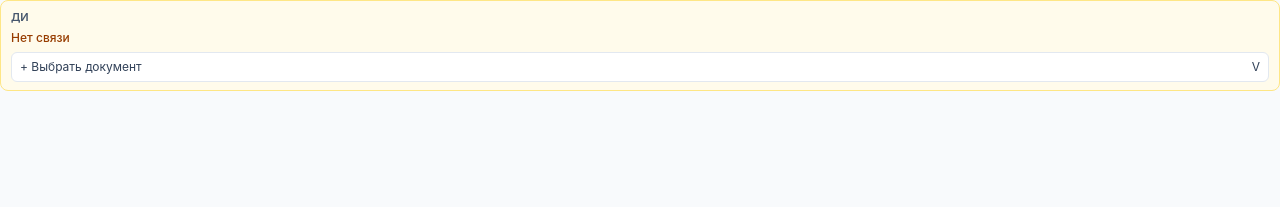
Test: DocumentSearchCombobox › returns focus to the trigger after Escape
Click the button with aria-label "Добавить ДИ для Инженер".
click(81, 66)  # box [11,52,1269,82]
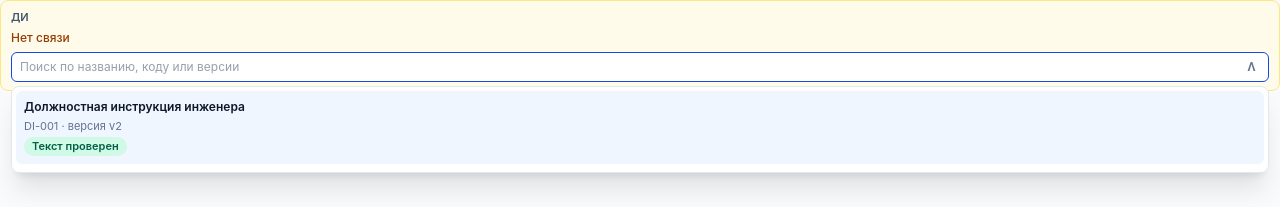
Press Escape
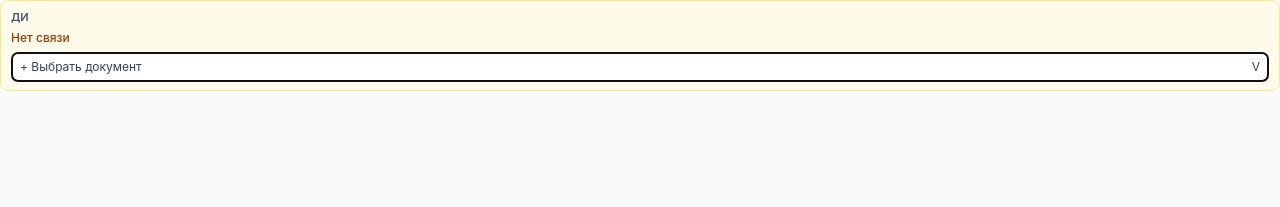
Expected: the dropdown is gone
